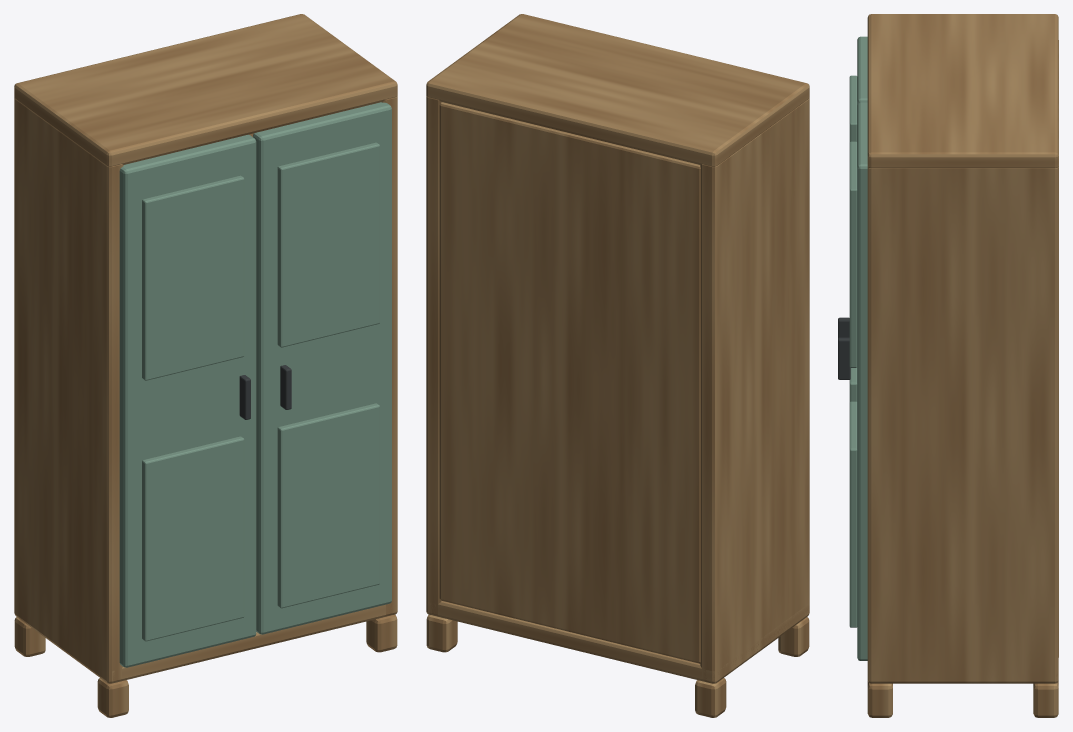
File: wardrobe.glb
3 renders of one model, left to right at view 1: azimuth 30°, elevation 25°; view 2: azimuth 150°, elevation 25°; view 3: azimuth 270°, elevation 25°, orthographic.
Visible parts, largest first — view 1: side, shelf.001, door, door.001, raised_panel, raised_panel.001, raised_panel.002, raised_panel.003, shelf, side.001, leg.020, leg.022 (+1 smaller); view 2: back, side, shelf.001, side.001, shelf, leg.021, leg.023, leg.020; view 3: side.001, shelf.001, door.001, raised_panel.002, raised_panel.003, leg.023, leg.022, door, back, raised_panel.001, handle.001.
Boxes of the visible parts, box(x1,y1,x2,y2) form: side: box(14, 98, 123, 683); shelf.001: box(14, 14, 397, 166); door: box(119, 134, 256, 667); door.001: box(253, 102, 391, 634); raised_panel: box(142, 436, 244, 641); raised_panel.001: box(142, 175, 244, 380); raised_panel.002: box(277, 403, 379, 608); raised_panel.003: box(277, 142, 379, 347); shelf: box(111, 604, 397, 683); side.001: box(381, 96, 397, 615); leg.020: box(97, 678, 128, 717); leg.022: box(366, 614, 397, 652); back: box(439, 102, 700, 663); side: box(700, 98, 809, 683); shelf.001: box(426, 14, 809, 166); side.001: box(426, 96, 442, 615); shelf: box(426, 601, 809, 683); leg.021: box(695, 678, 726, 717); leg.023: box(426, 614, 457, 652); leg.020: box(778, 617, 809, 656); side.001: box(867, 167, 1058, 683); shelf.001: box(867, 14, 1058, 168); door.001: box(857, 102, 867, 660); raised_panel.002: box(849, 401, 857, 627); raised_panel.003: box(849, 141, 857, 367); leg.023: box(1033, 681, 1058, 717); leg.022: box(867, 681, 892, 717); door: box(857, 36, 867, 104); back: box(1058, 40, 1058, 657); raised_panel.001: box(849, 75, 857, 142); handle.001: box(838, 337, 850, 379).
Size of the model in its own units: 1.05 by 1.96 by 0.6935.
4 materials, 2 textured.
